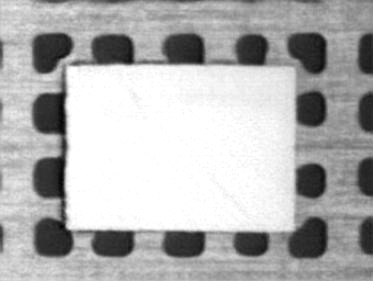DIE_CRACK: (198, 167, 251, 220)
